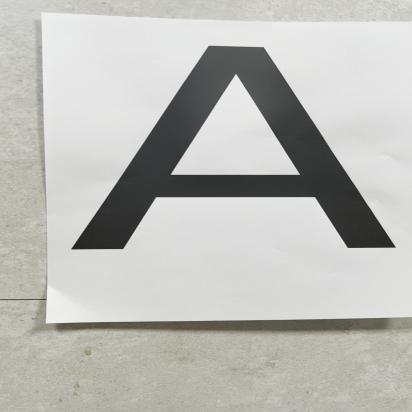seat: (47, 34, 412, 321)
